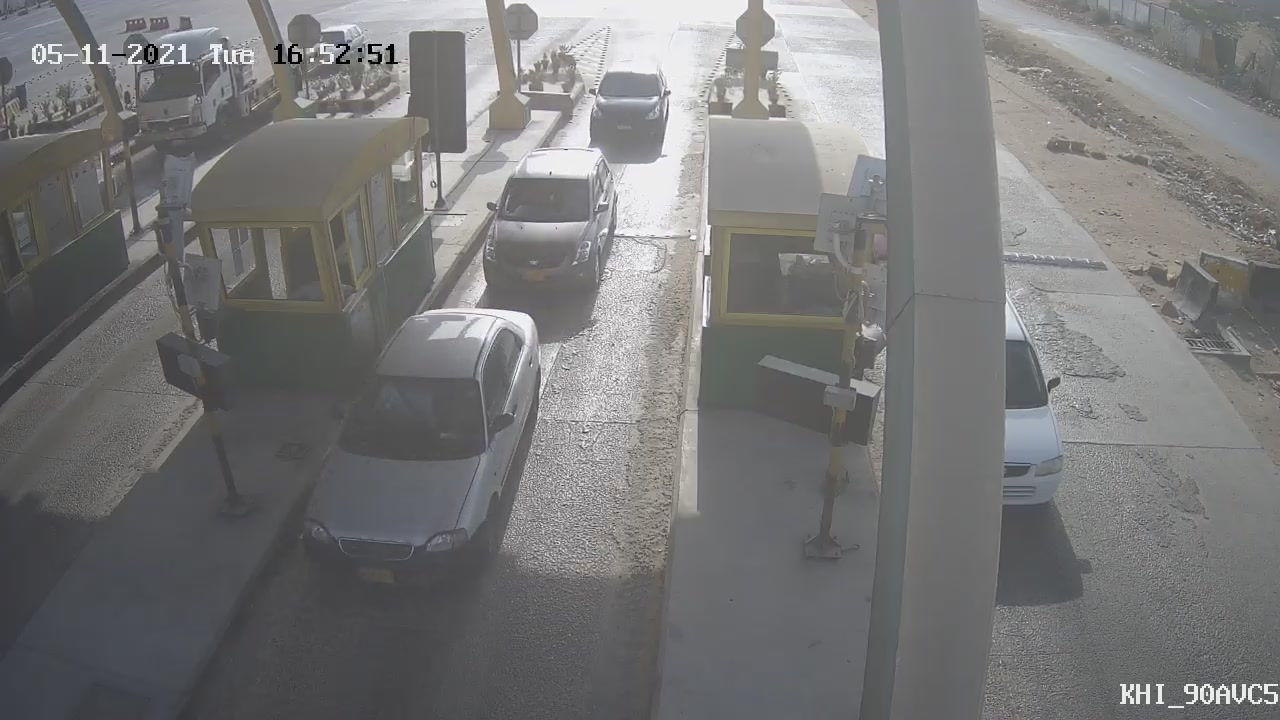F1: (278, 283, 561, 618), (465, 129, 634, 313), (568, 48, 691, 172)
